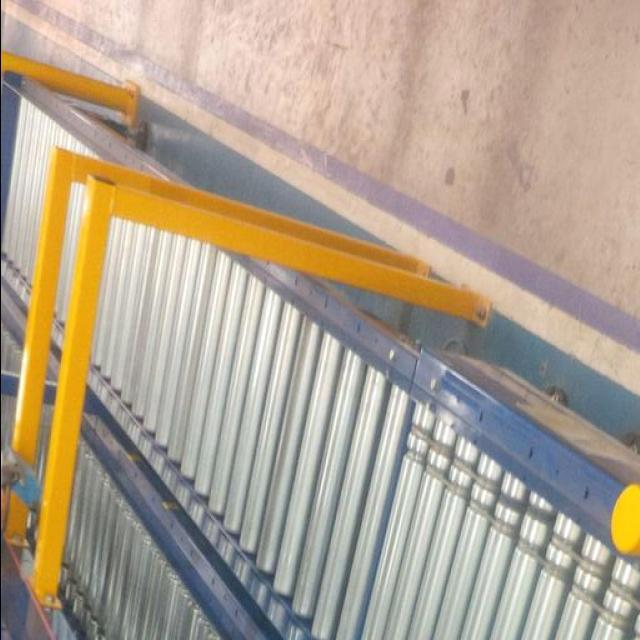conveyor: (1, 76, 640, 640)
